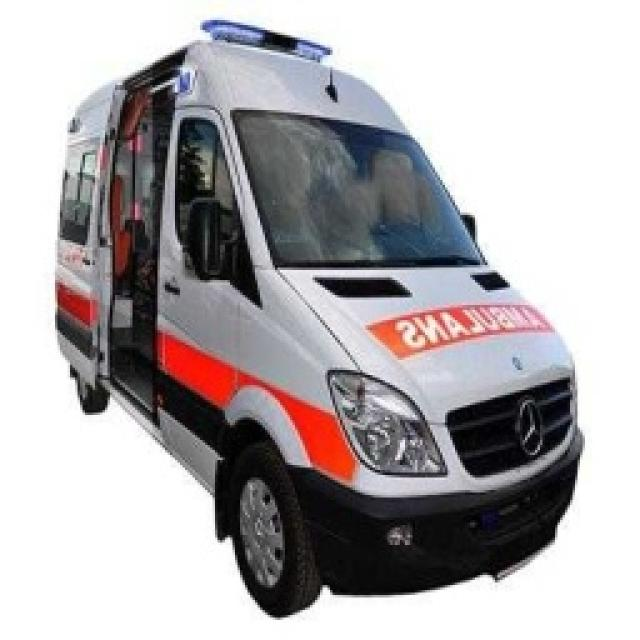emergency-vehicle: (53, 20, 585, 618)
